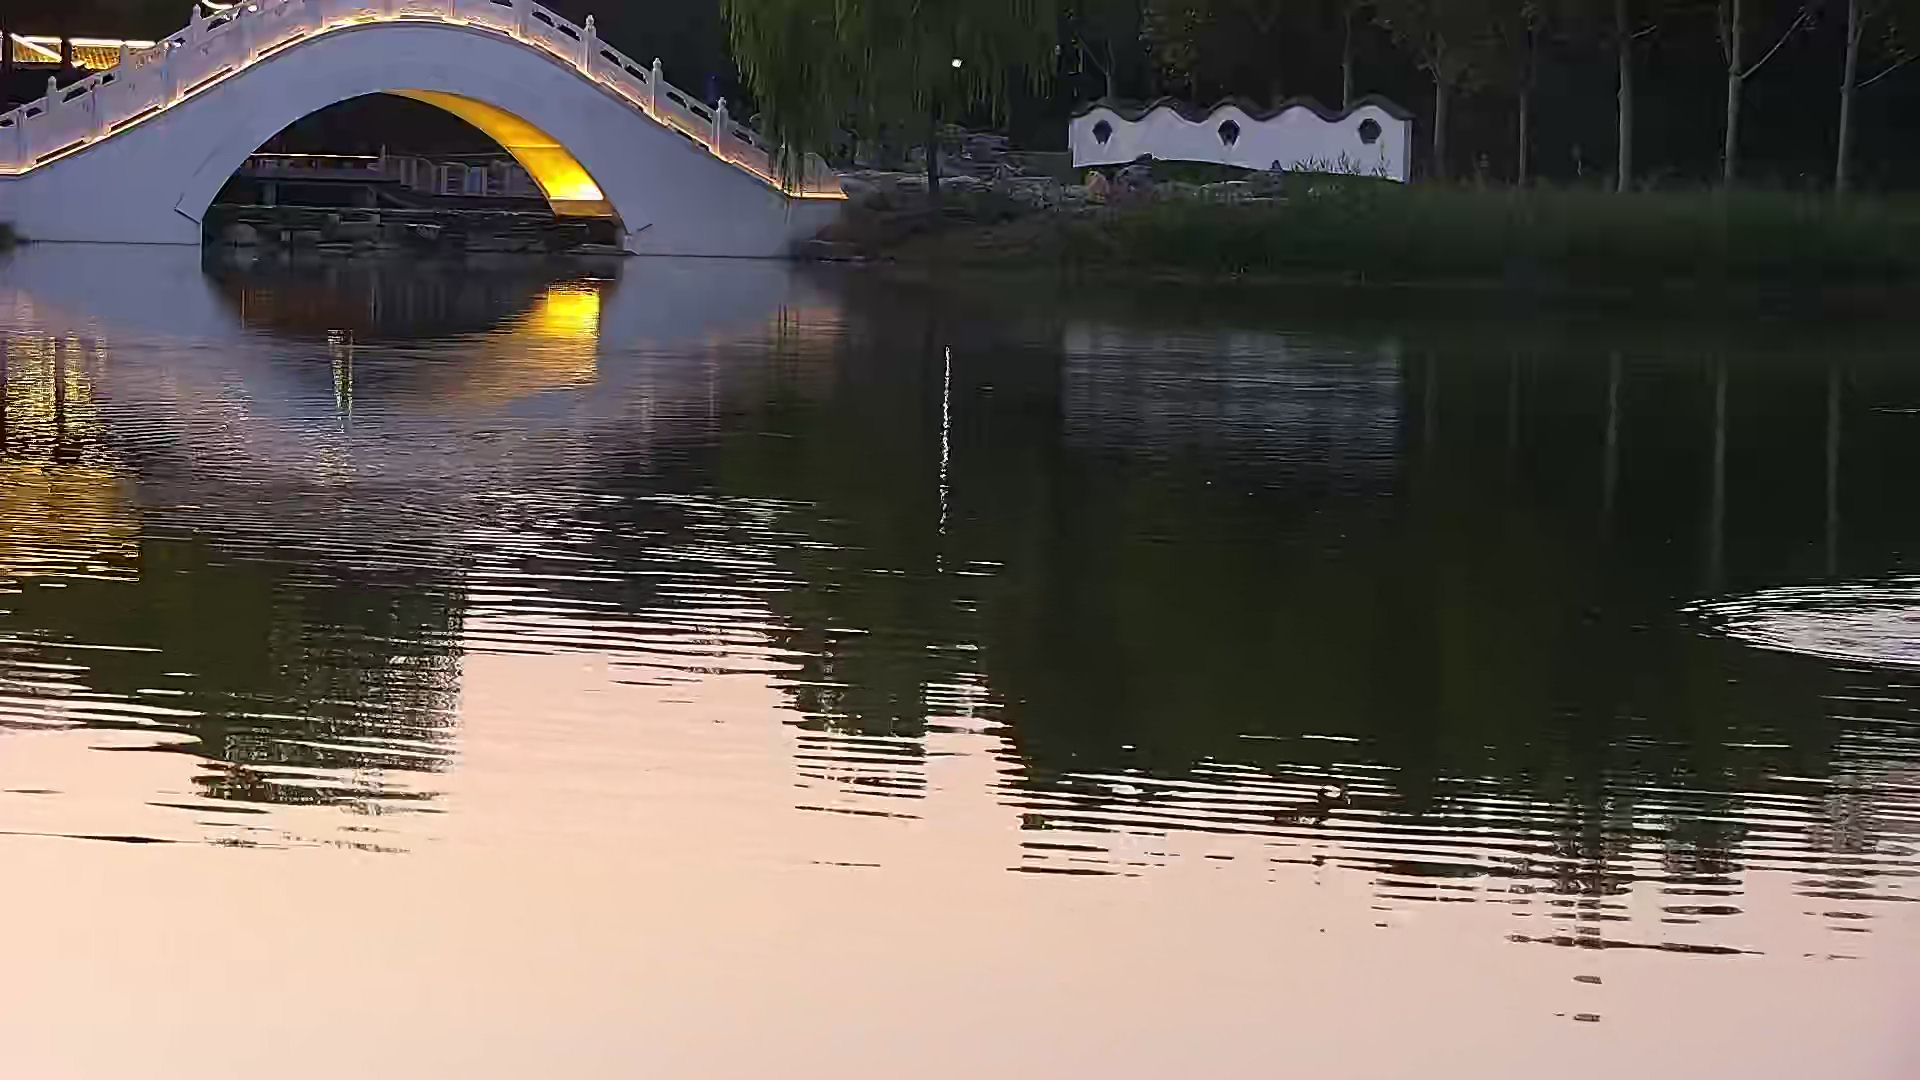bridge: (4, 3, 808, 255)
